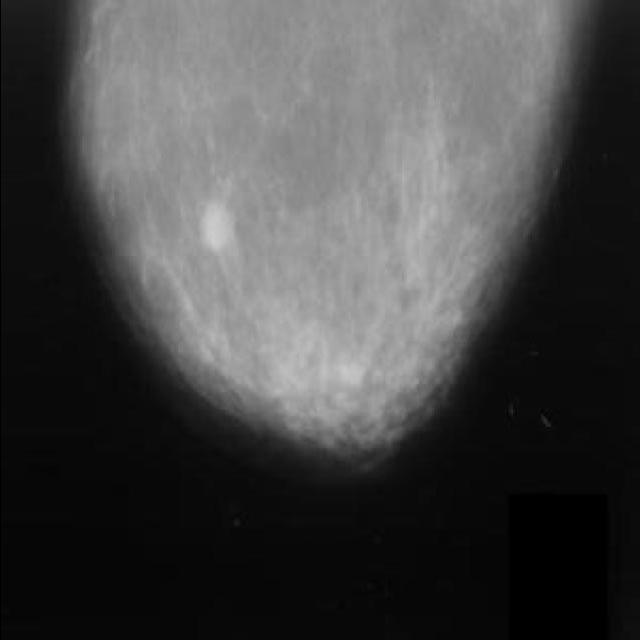tumor: (239, 326, 448, 429), (186, 193, 258, 270)
